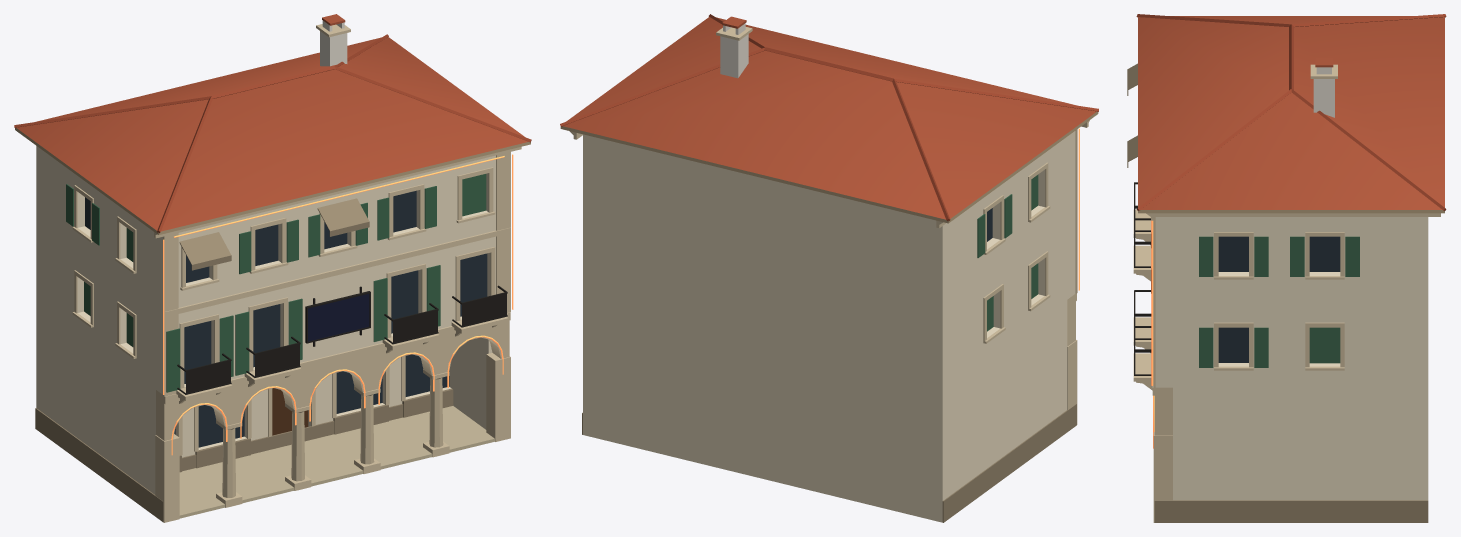
The picture shows the model from 3 angles, left to right: view 1: azimuth 30°, elevation 25°; view 2: azimuth 150°, elevation 25°; view 3: azimuth 270°, elevation 25°; orthographic projection. The views are drawn at different scales.
Visible parts, largest first — view 1: townhall.lod1; view 2: townhall.lod1; view 3: townhall.lod1.
Part boxes in pixels (x1=…): townhall.lod1: x1=14, y1=14, x2=531, y2=522; townhall.lod1: x1=560, y1=14, x2=1098, y2=522; townhall.lod1: x1=1127, y1=14, x2=1446, y2=522.
Size of the model in its own units: 15.2 by 14.91 by 10.5.
